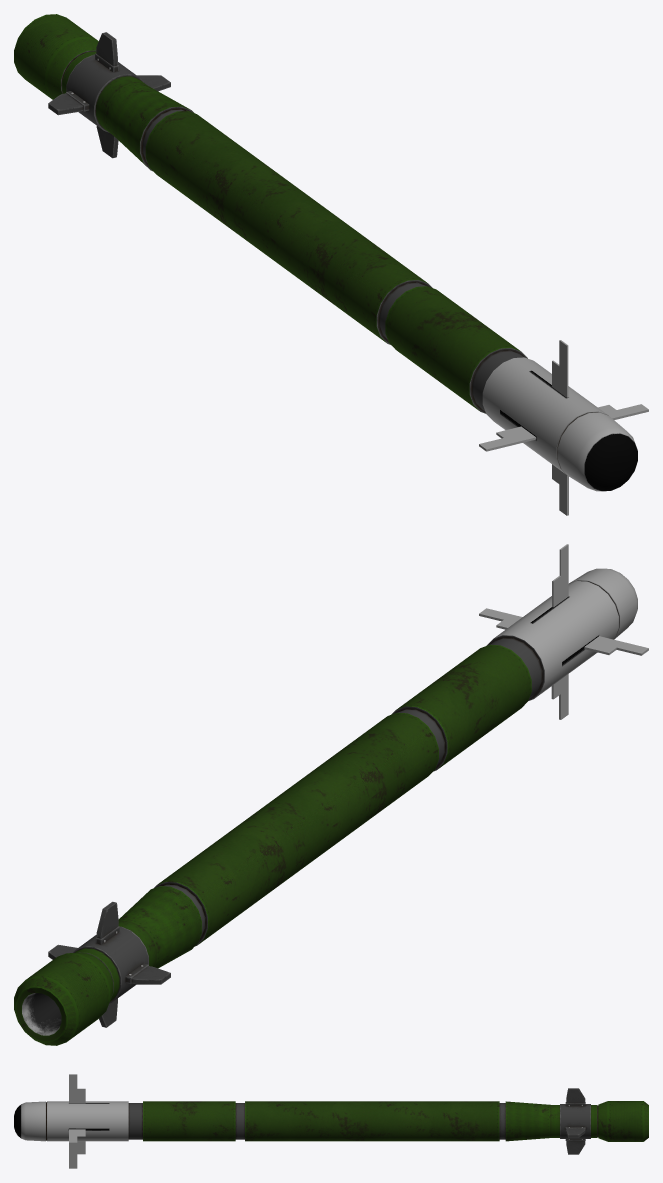
The picture shows the model from 3 angles, top to bottom: view 1: azimuth 30°, elevation 25°; view 2: azimuth 150°, elevation 25°; view 3: azimuth 270°, elevation 25°; orthographic projection. The views are drawn at different scales.
Parts seen in each view (by area): view 1: Missile001; view 2: Missile001; view 3: Missile001.
Part boxes in pixels (left/top/right/bottom): Missile001: left=14, top=14, right=648, bottom=515; Missile001: left=14, top=544, right=648, bottom=1045; Missile001: left=14, top=1074, right=648, bottom=1168.
Bounding box in the file's own units: 0.3254 × 0.3254 × 2.
Materials: 1 (1 with a texture image).
